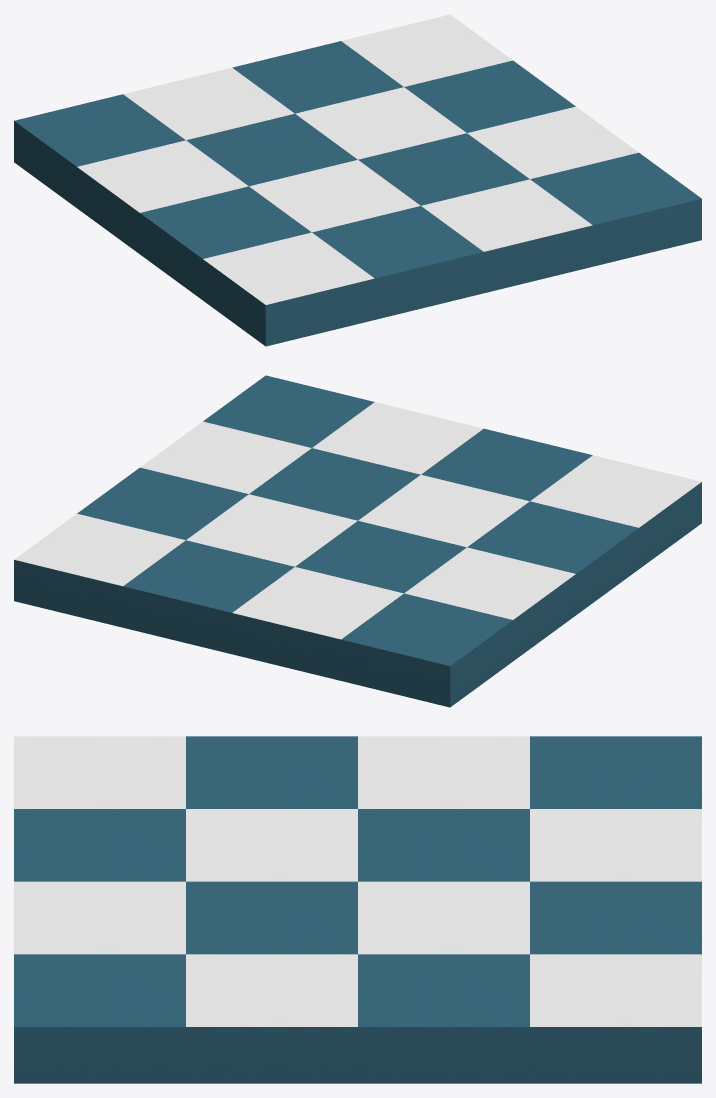
Rendered from floor_1.dae.
The picture shows the model from 3 angles, top to bottom: view 1: azimuth 30°, elevation 25°; view 2: azimuth 150°, elevation 25°; view 3: azimuth 270°, elevation 25°; orthographic projection. The views are drawn at different scales.
Visible parts, largest first — view 1: floor_1; view 2: floor_1; view 3: floor_1.
Part boxes in pixels (x1,y1,x2,y2): floor_1: (14, 14, 701, 346); floor_1: (14, 375, 701, 707); floor_1: (14, 736, 701, 1083).
Size of the model in its own units: 2 by 2 by 0.1816.
